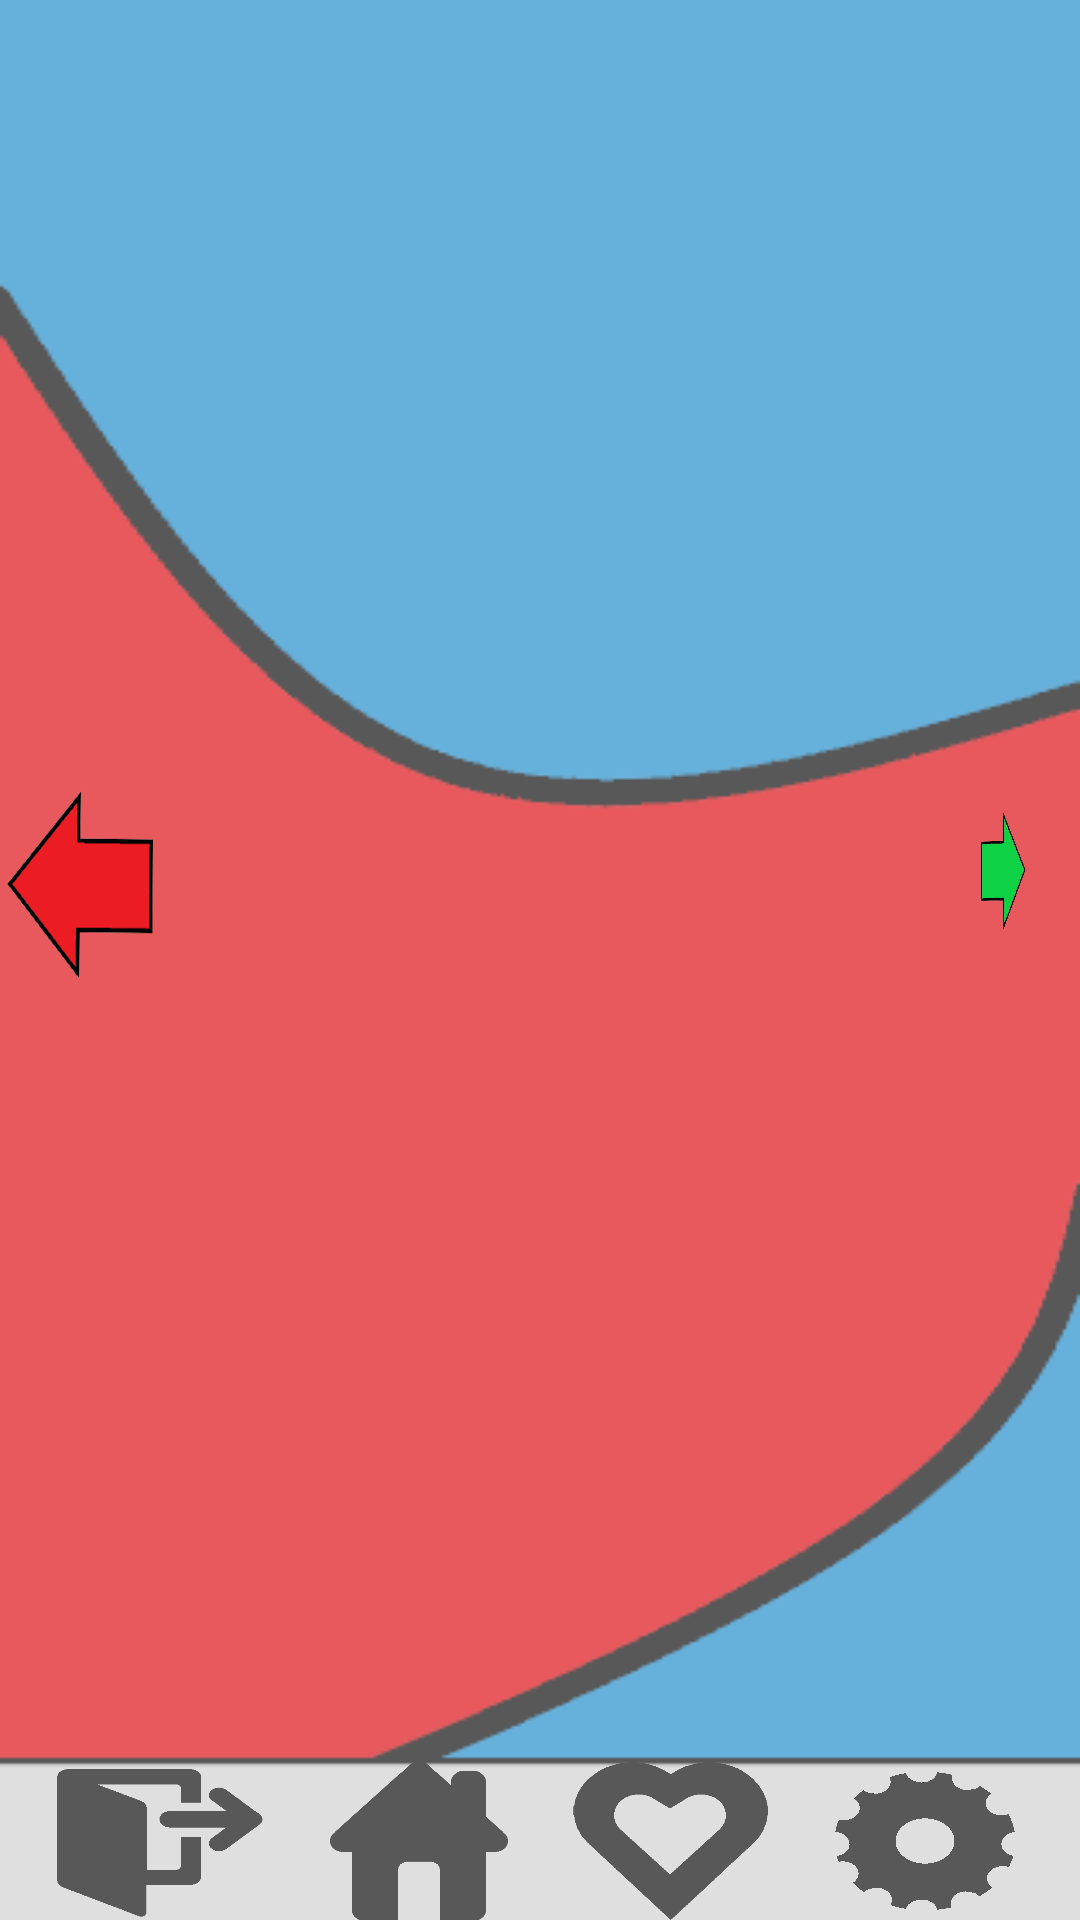

Icons on this 1080px×1920px Android screen, each with the point to tap as (x=x, y=y):
accept: (x=1003, y=871)
heart nobg: (x=672, y=1841)
home: (x=419, y=1841)
log out: (x=160, y=1841)
reject: (x=80, y=885)
settings: (x=925, y=1841)
